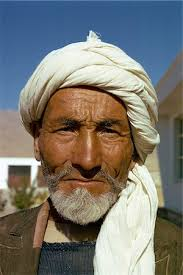middle_eastern_male: (46, 93, 144, 230)
